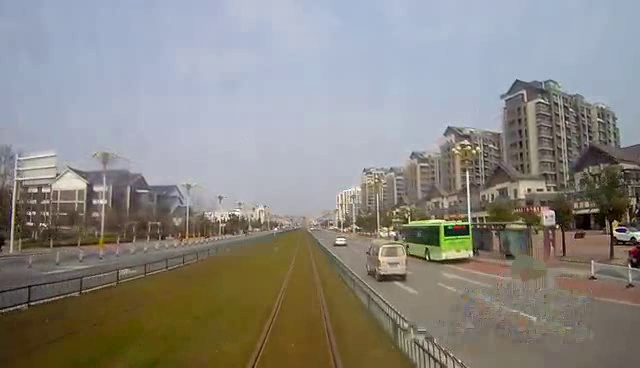bus: (401, 220, 477, 263)
car: (363, 234, 414, 281)
